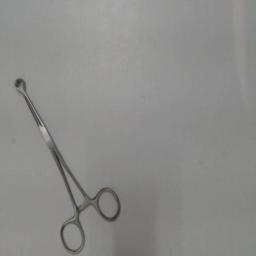Babcock Tissue Forceps: (11, 74, 123, 254)
